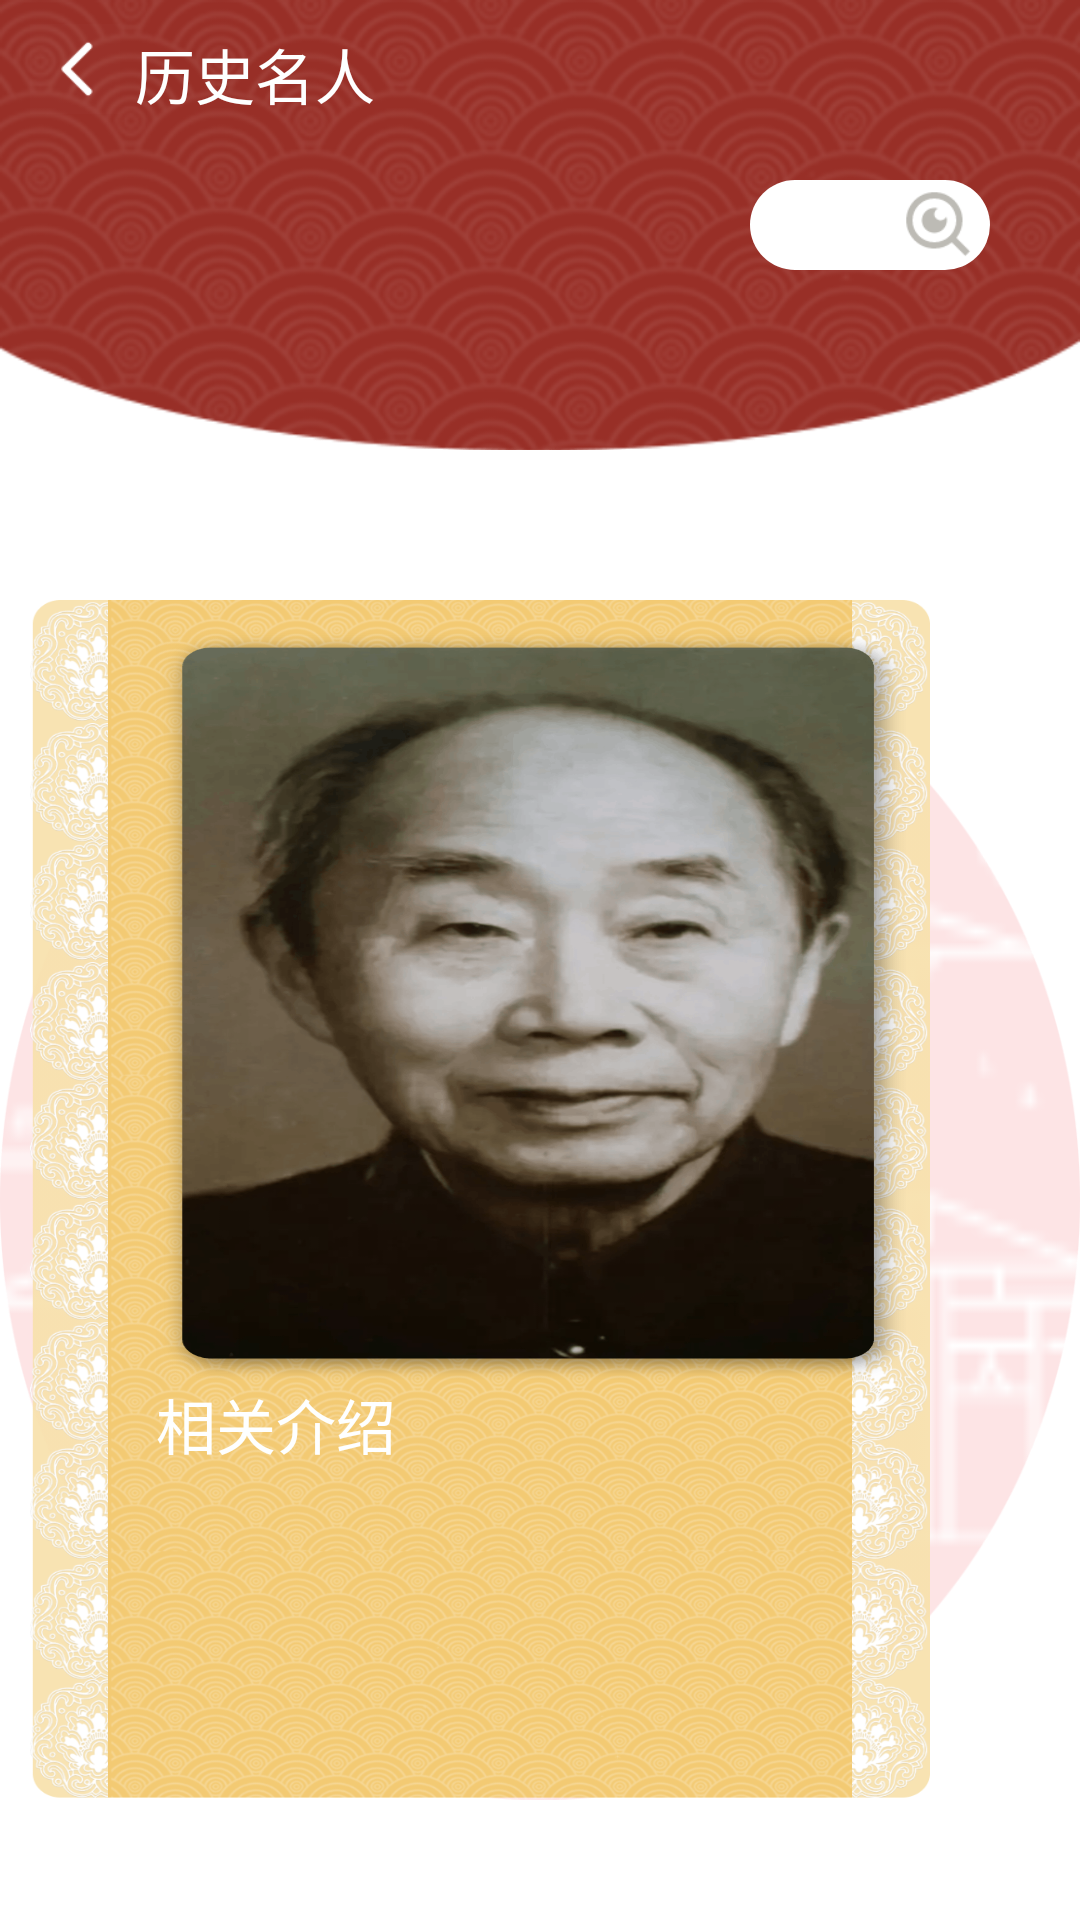

Icon bounding boxes for this 1080w x 1920h phone screenshot, format (x1, y1, x2, y2):
search: (906, 192, 970, 256)
